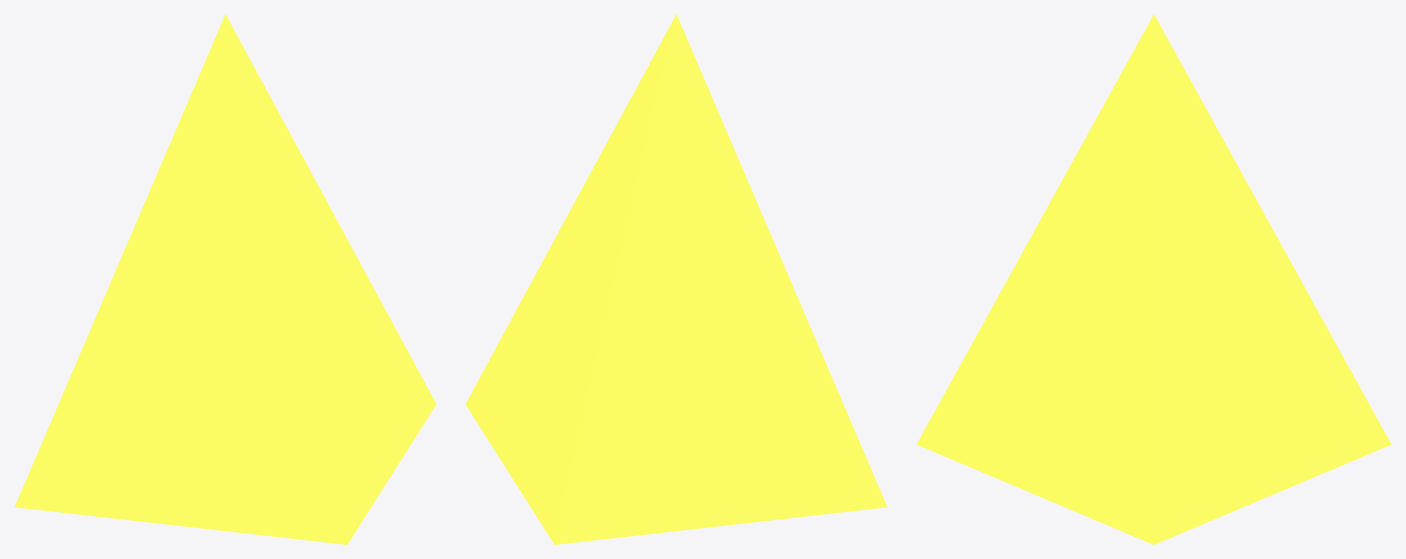
File: Triangulo.glb
The picture shows the model from 3 angles, left to right: view 1: azimuth 30°, elevation 25°; view 2: azimuth 150°, elevation 25°; view 3: azimuth 270°, elevation 25°; orthographic projection. The views are drawn at different scales.
Parts seen in each view (by area): view 1: Cone; view 2: Cone; view 3: Cone.
Boxes of the visible parts, x1,y1,x2,y2 form: Cone: (15,14,436,544); Cone: (465,14,886,544); Cone: (916,15,1391,544).
Bounding box in the file's own units: 3 × 3 × 3.
